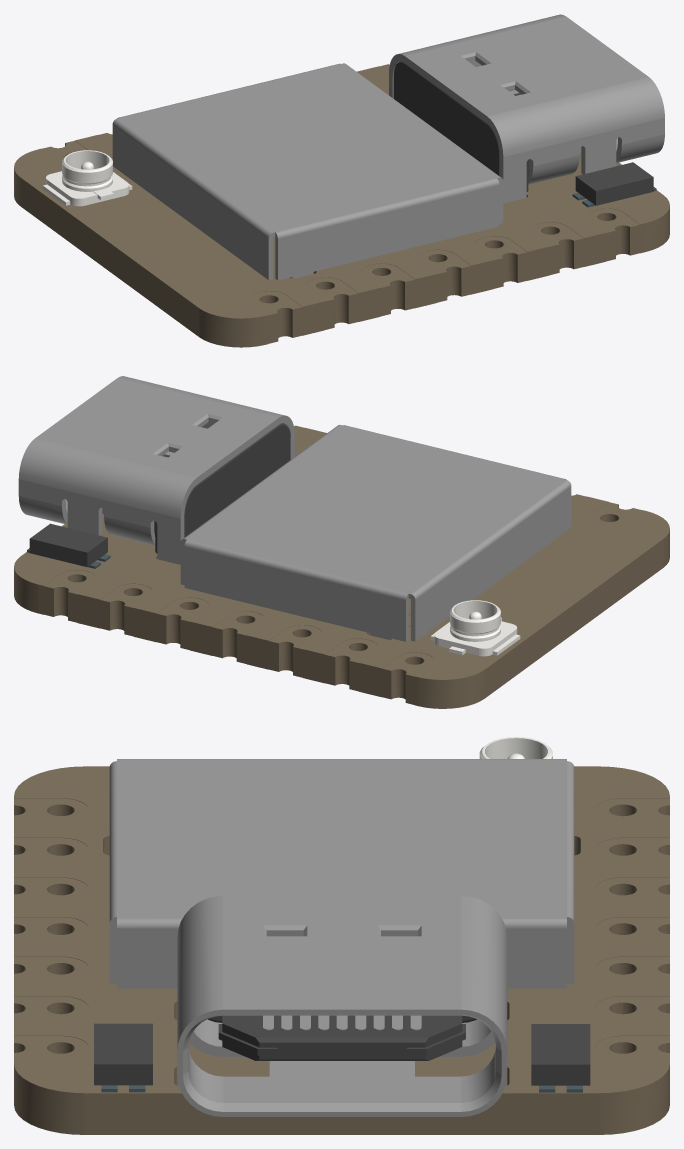
Rendered from seeed-xiao-esp32-s3.glb.
The picture shows the model from 3 angles, top to bottom: view 1: azimuth 30°, elevation 25°; view 2: azimuth 150°, elevation 25°; view 3: azimuth 270°, elevation 25°; orthographic projection. The views are drawn at different scales.
Visible parts, largest first — view 1: RF_SHIELD, PCB, CAD_GEOMETRY_UNIDENTIFIED, UFL_CONNECTOR; view 2: RF_SHIELD, PCB, CAD_GEOMETRY_UNIDENTIFIED, UFL_CONNECTOR; view 3: PCB, RF_SHIELD, CAD_GEOMETRY_UNIDENTIFIED, UFL_CONNECTOR.
Part boxes in pixels (left/top/right/bottom): RF_SHIELD: left=112, top=63, right=503, bottom=280; PCB: left=14, top=64, right=669, bottom=347; CAD_GEOMETRY_UNIDENTIFIED: left=389, top=14, right=664, bottom=207; UFL_CONNECTOR: left=42, top=150, right=132, bottom=206; RF_SHIELD: left=180, top=425, right=571, bottom=641; PCB: left=14, top=425, right=669, bottom=708; CAD_GEOMETRY_UNIDENTIFIED: left=18, top=376, right=294, bottom=568; UFL_CONNECTOR: left=430, top=600, right=520, bottom=656; PCB: left=14, top=766, right=669, bottom=1134; RF_SHIELD: left=109, top=759, right=574, bottom=988; CAD_GEOMETRY_UNIDENTIFIED: left=94, top=896, right=590, bottom=1116; UFL_CONNECTOR: left=479, top=737, right=552, bottom=758.
Size of the model in its own units: 0.0225 by 0.00446 by 0.0178.
